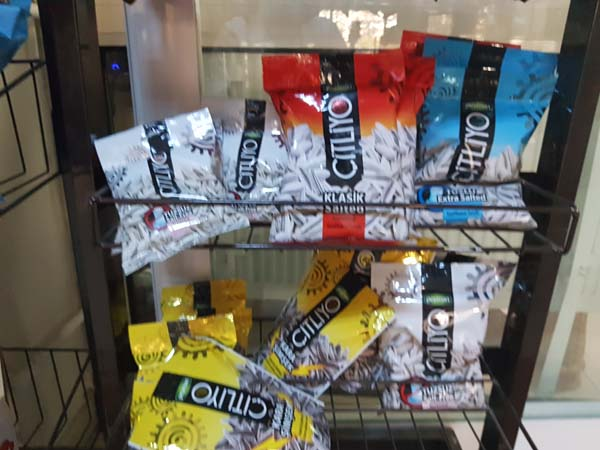citliyorkarasisimsek: (135, 333, 334, 450), (262, 249, 393, 393)
citliyorklasik: (256, 49, 416, 249)
